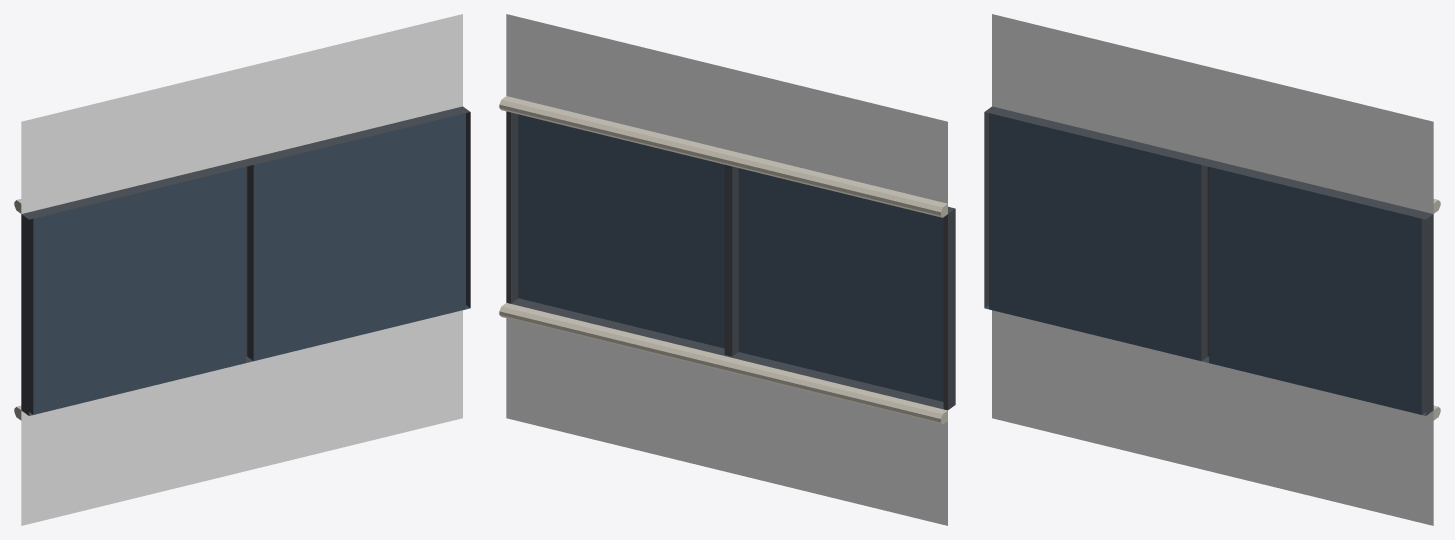
The model's file is off_win_c.glb.
3 renders of one model, left to right at view 1: azimuth 30°, elevation 25°; view 2: azimuth 150°, elevation 25°; view 3: azimuth 330°, elevation 25°, orthographic.
Visible parts, largest first — view 1: off_win_c__mesh; view 2: off_win_c__mesh; view 3: off_win_c__mesh.
Boxes of the visible parts, bbox=[...] form: off_win_c__mesh: bbox=[14, 14, 470, 525]; off_win_c__mesh: bbox=[499, 14, 955, 525]; off_win_c__mesh: bbox=[984, 14, 1440, 525].
Size of what is drawn, in the model's own units: 4 by 3.5 by 0.23.
Materials: 2 (1 with a texture image).
